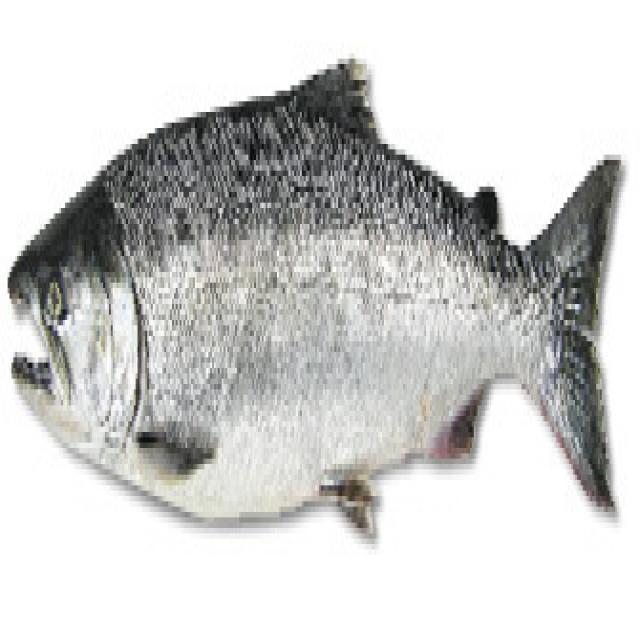grouper: (2, 43, 627, 573)
